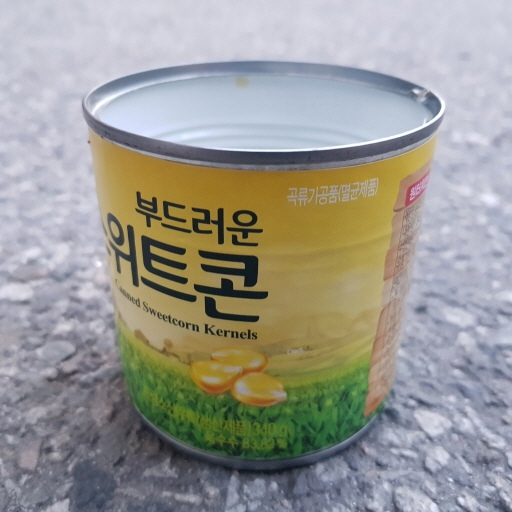Metal_1: (77, 57, 448, 466)
